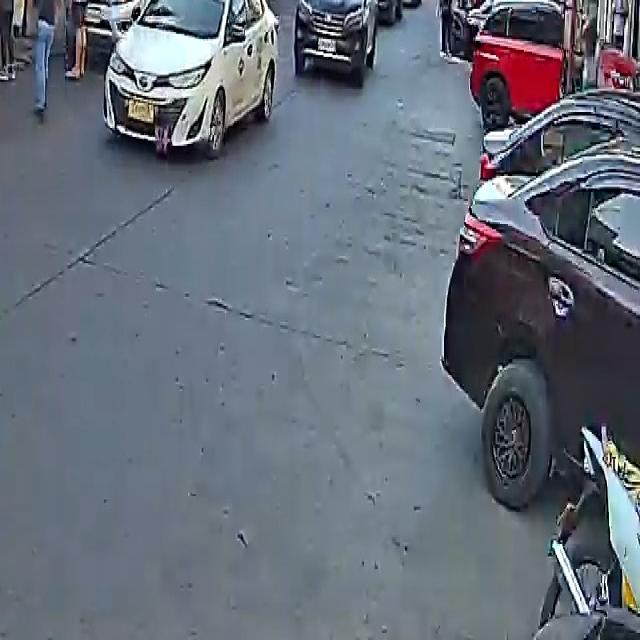car: (443, 95, 640, 568), (102, 0, 284, 156), (467, 0, 575, 124), (294, 0, 381, 82), (80, 0, 199, 41)
